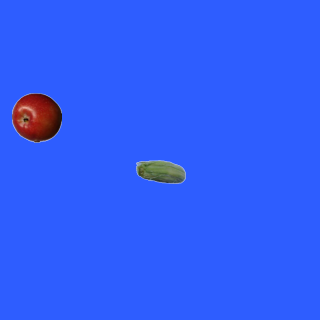Apple Braeburn: (11, 92, 61, 142)
Corn Husk: (135, 148, 185, 198)
